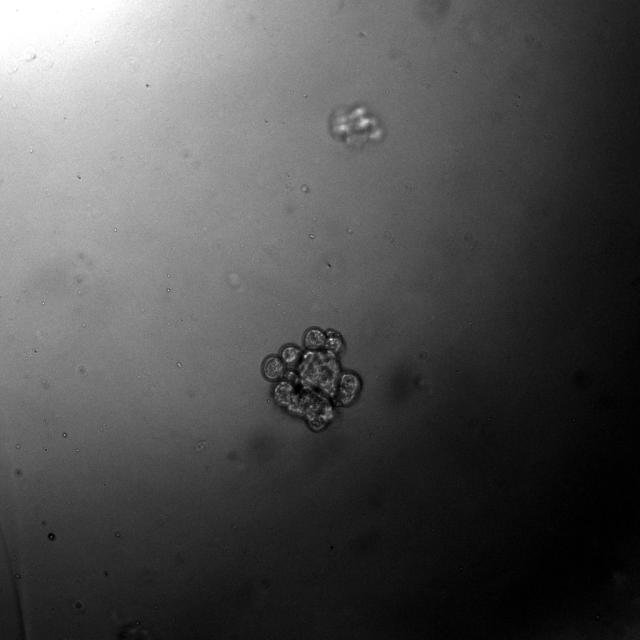organoid: (261, 327, 362, 432), (328, 105, 384, 148)
